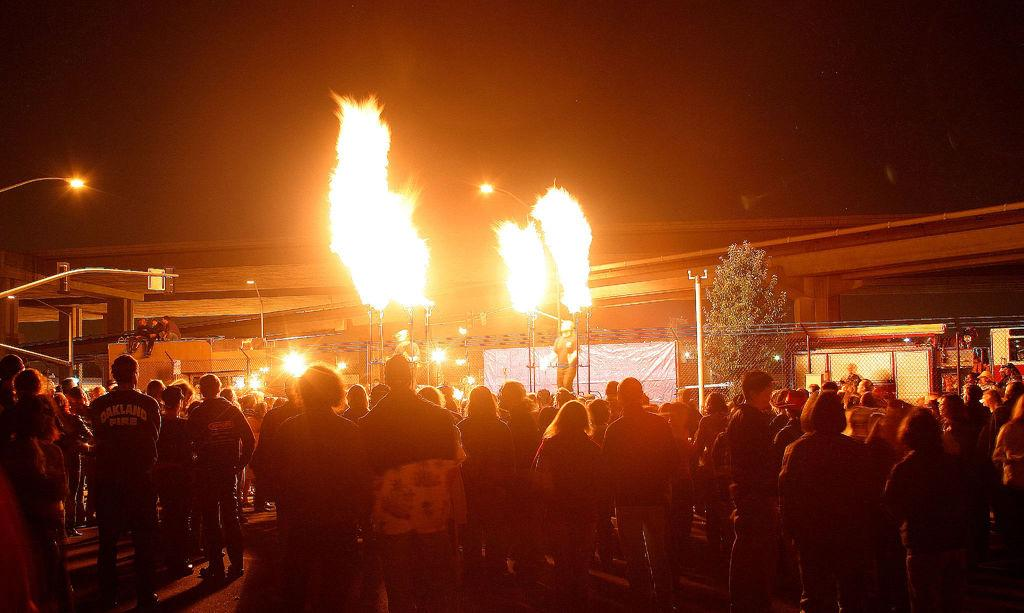fire: (348, 197, 408, 293), (340, 107, 383, 188), (512, 237, 540, 303), (548, 207, 583, 252)
